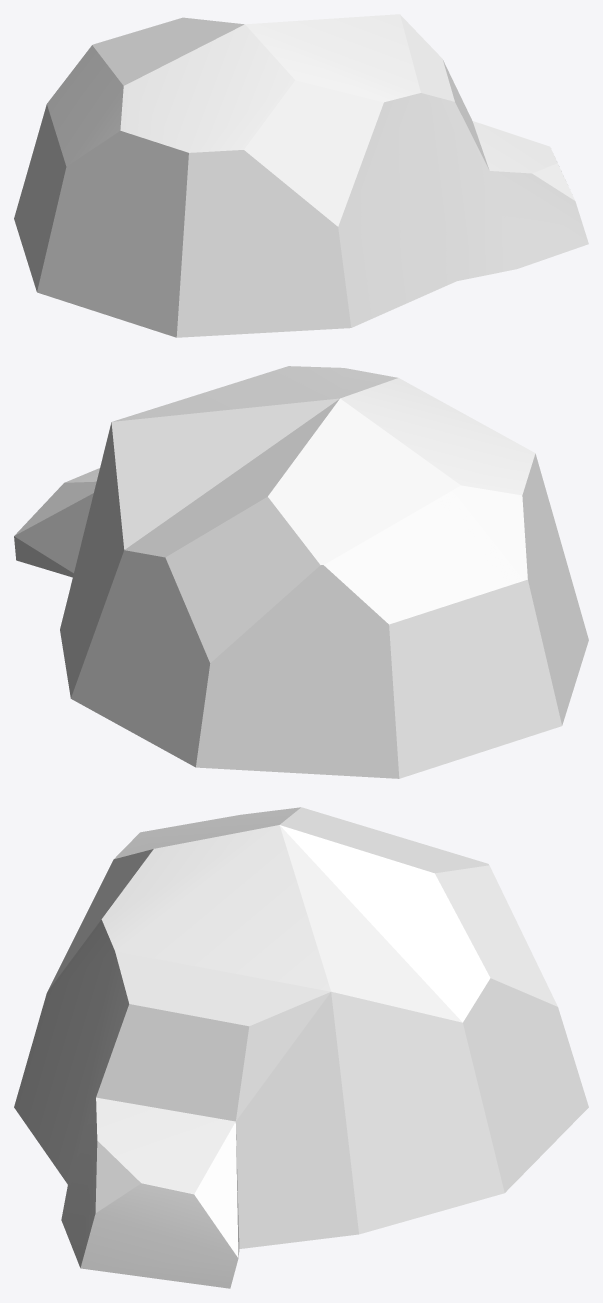
Rendered from rock3.fbx.
The picture shows the model from 3 angles, top to bottom: view 1: azimuth 30°, elevation 25°; view 2: azimuth 150°, elevation 25°; view 3: azimuth 270°, elevation 25°; orthographic projection. The views are drawn at different scales.
Visible parts, largest first — view 1: Object084; view 2: Object084; view 3: Object084.
Part boxes in pixels (bbox=[...]): Object084: bbox=[14, 14, 588, 337]; Object084: bbox=[14, 366, 588, 778]; Object084: bbox=[14, 807, 588, 1288].
Bounding box in the file's own units: 147 × 63.94 × 118.
